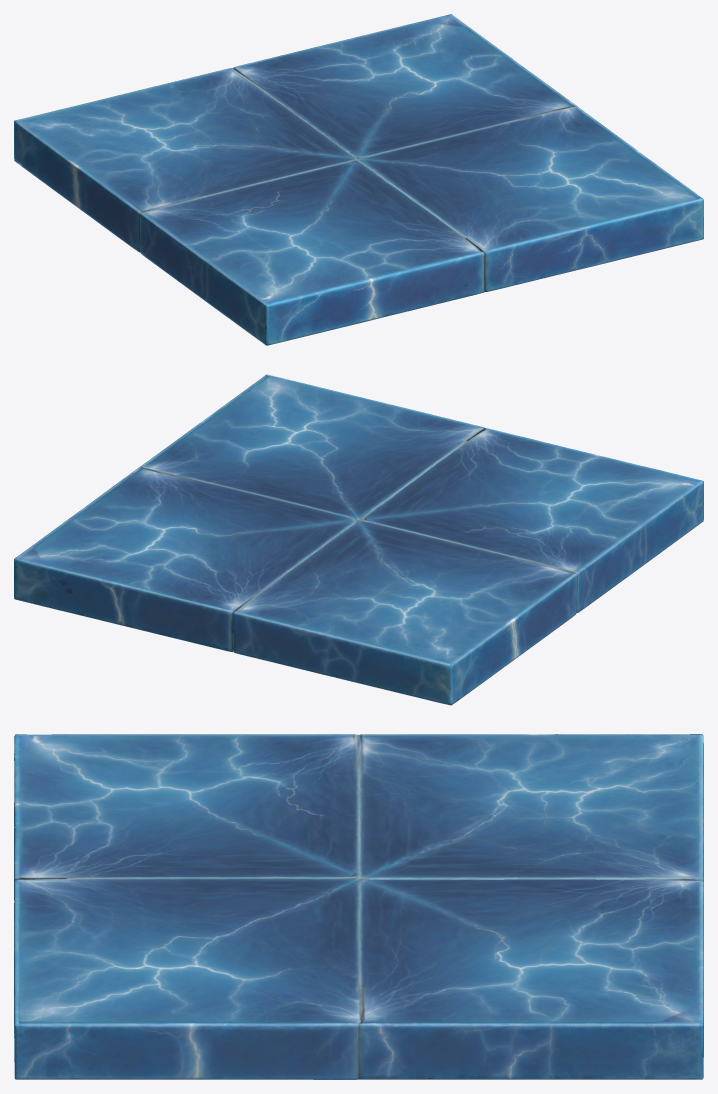
File: Meshy_AI_a_flat_electric_tile_1115233144_texture.glb
3 renders of one model, top to bottom at view 1: azimuth 30°, elevation 25°; view 2: azimuth 150°, elevation 25°; view 3: azimuth 270°, elevation 25°, orthographic. The views are drawn at different scales.
Size of the model in its own units: 2 by 0.1869 by 2.
1 material, 1 textured.
